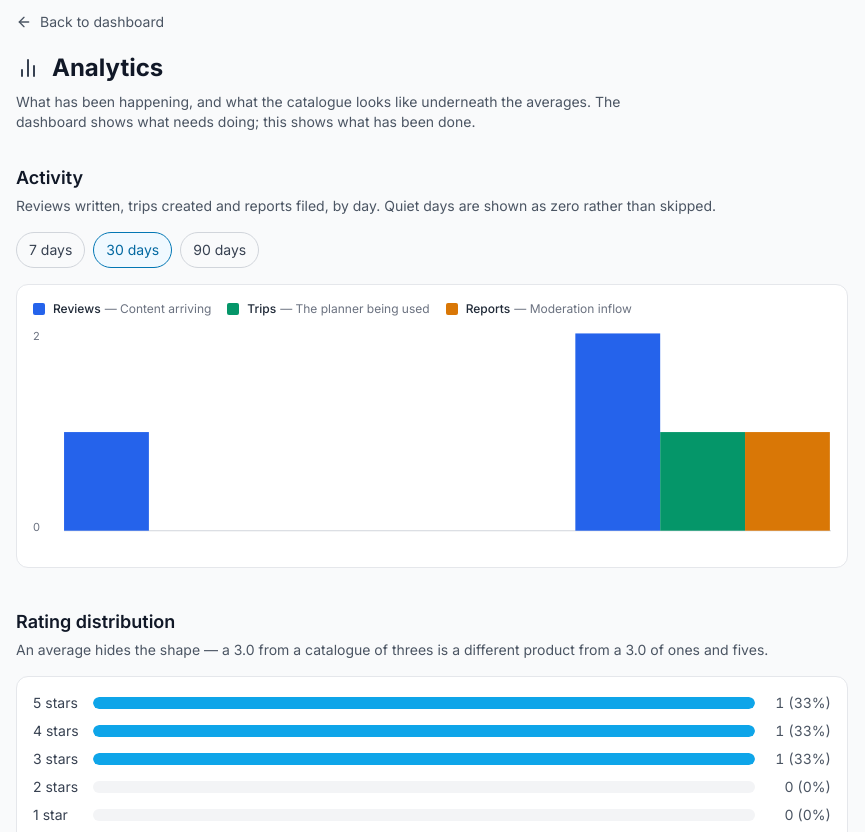
empty and failed are different states › a failure is announced and no stale numbers remain
This screenshot has width=865, height=832.
Check: the text "5 stars" is shown, box left=33, top=693, right=81, bottom=713
Step 1. Click the button "90 days" → [220, 250], box left=180, top=232, right=259, bottom=268
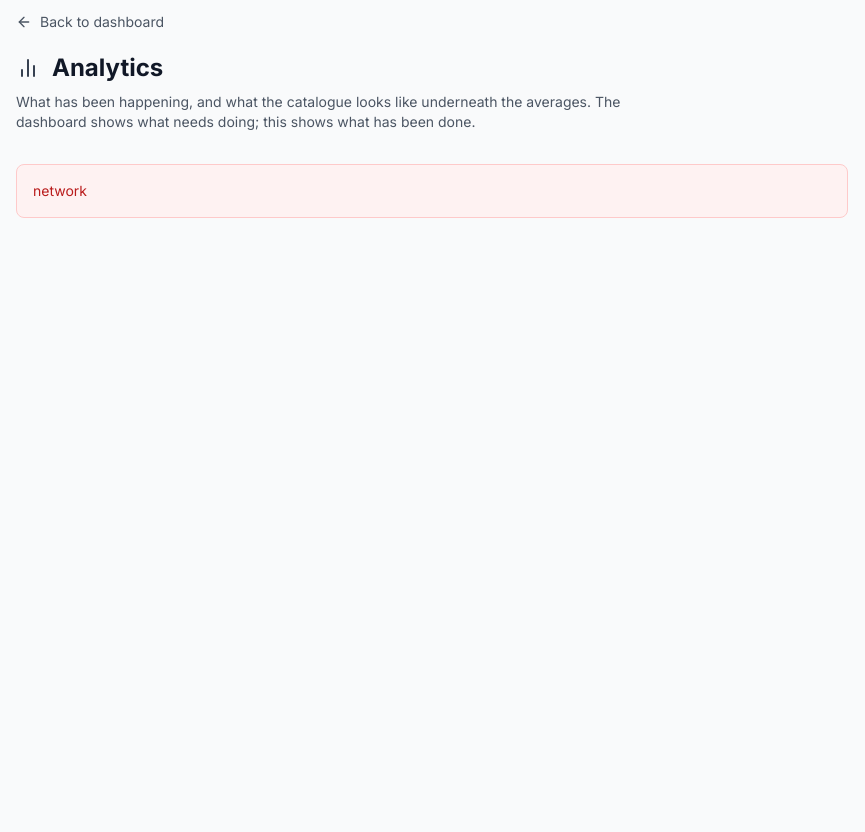
Check: the message reads "network", box left=33, top=182, right=87, bottom=199
Check: the text "5 stars" is gone
